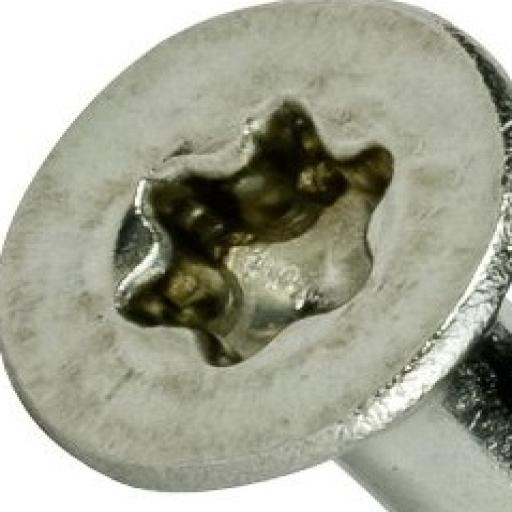Torx: (0, 3, 510, 496)
